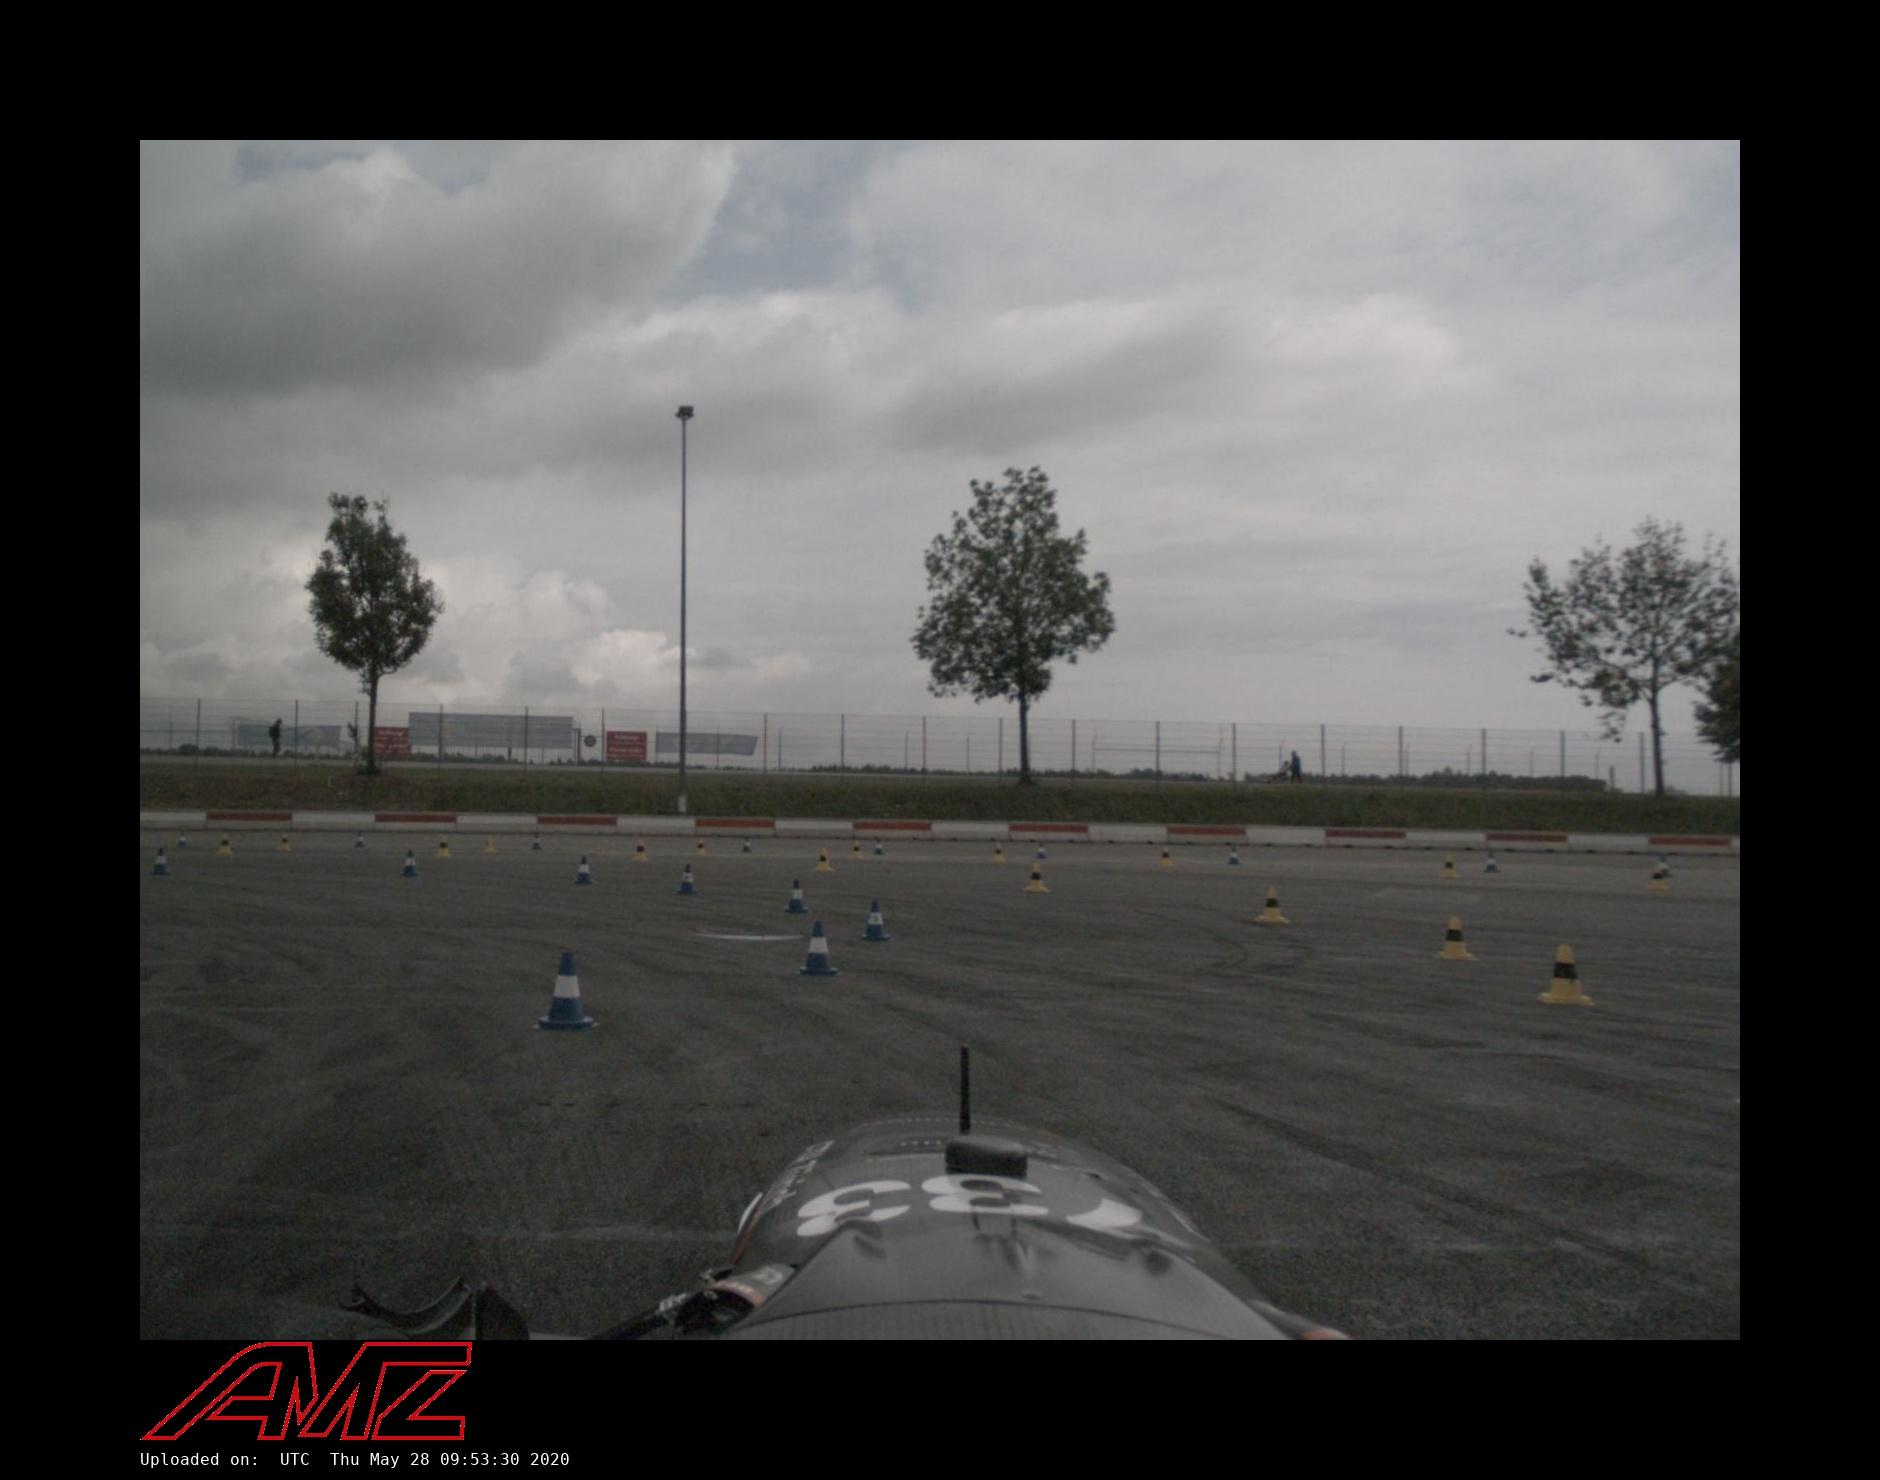blue_cone: (532, 951, 600, 1032), (796, 918, 841, 975), (861, 900, 891, 941), (784, 879, 810, 913), (572, 854, 595, 883), (678, 863, 698, 894), (400, 849, 420, 875), (151, 847, 170, 874), (1656, 854, 1673, 878), (1484, 850, 1499, 873), (1032, 839, 1048, 860), (1226, 845, 1241, 865), (530, 831, 542, 851), (353, 833, 366, 849), (741, 837, 752, 853), (874, 839, 883, 855), (178, 832, 187, 847)
yellow_cone: (1537, 939, 1596, 1008), (1436, 914, 1476, 962), (1253, 884, 1289, 926), (1024, 861, 1048, 891), (1646, 863, 1666, 889), (1156, 844, 1174, 869), (813, 849, 832, 871), (630, 838, 648, 861), (216, 832, 233, 854), (1442, 853, 1457, 877), (435, 835, 451, 857), (693, 837, 707, 857), (850, 839, 863, 860), (992, 840, 1005, 859), (483, 834, 496, 853), (279, 833, 291, 850)
